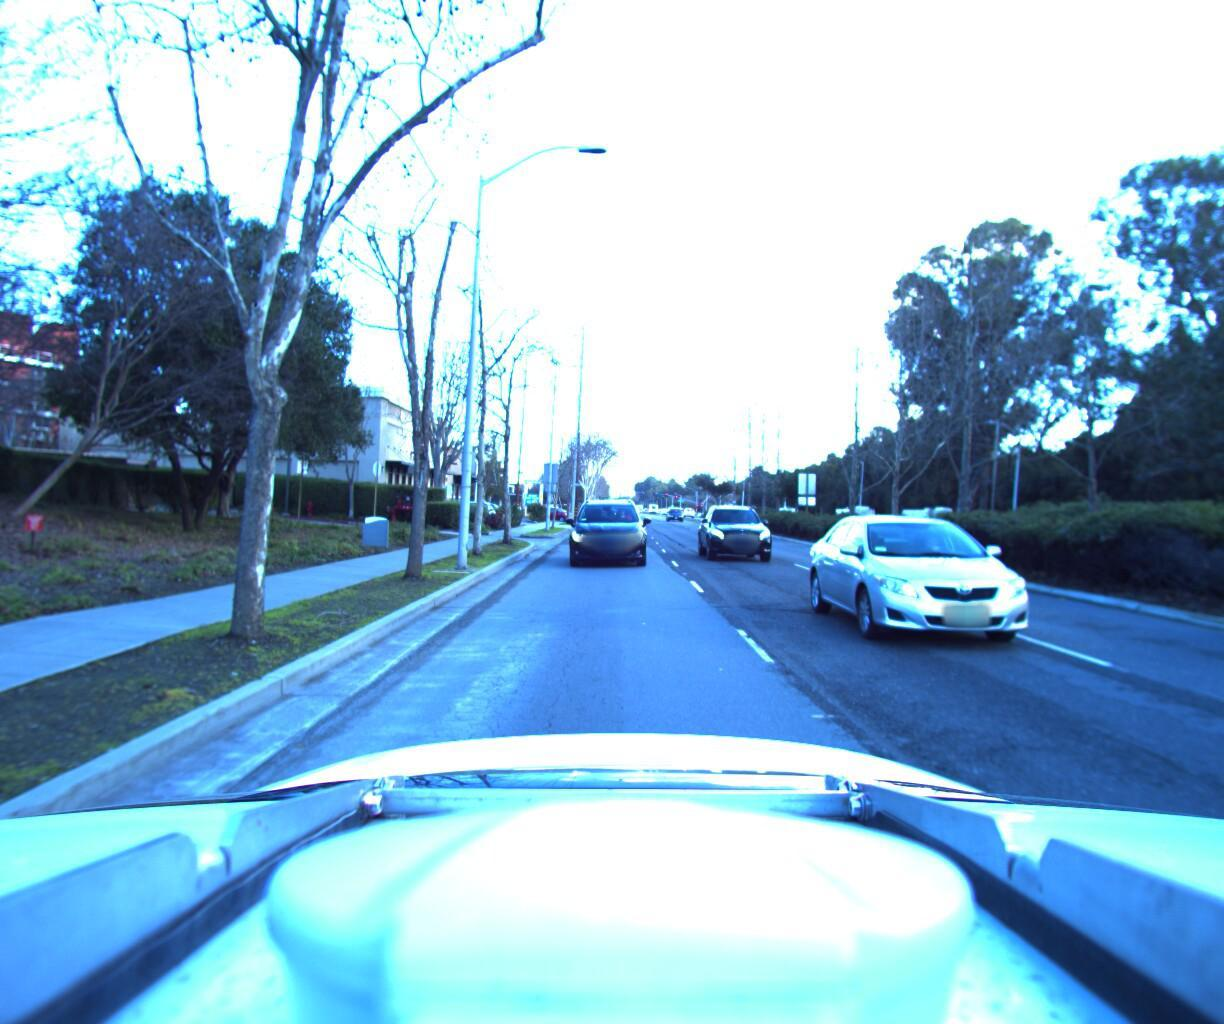car: (822, 499, 1131, 684), (558, 488, 645, 566), (692, 498, 782, 564), (524, 498, 572, 519)
other_vehicle: (895, 498, 957, 536)
